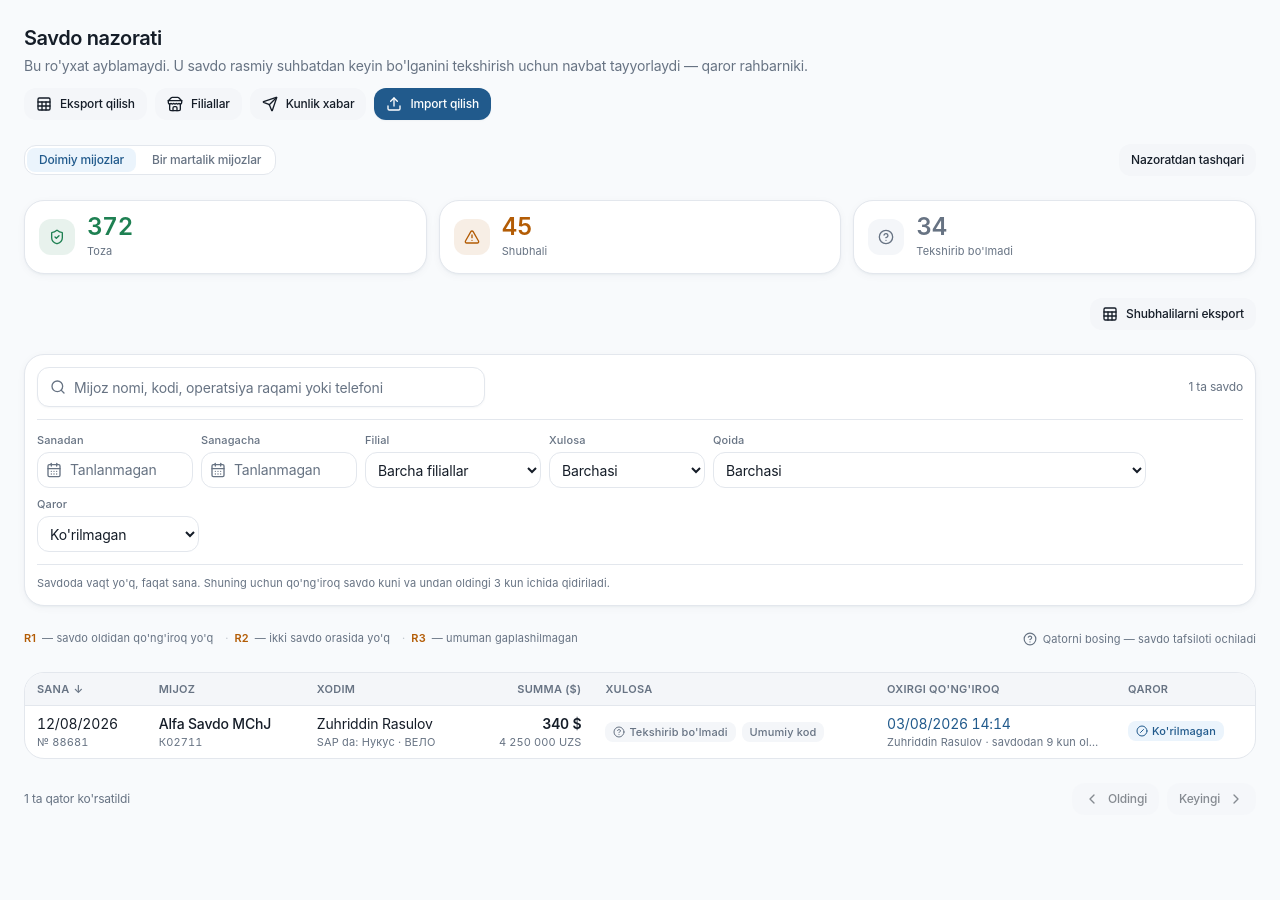
Test: the sale card › explains itself instead of drawing an empty chain for a shared code
Click the text "№ 88681": (63, 742) [37,735,88,749]
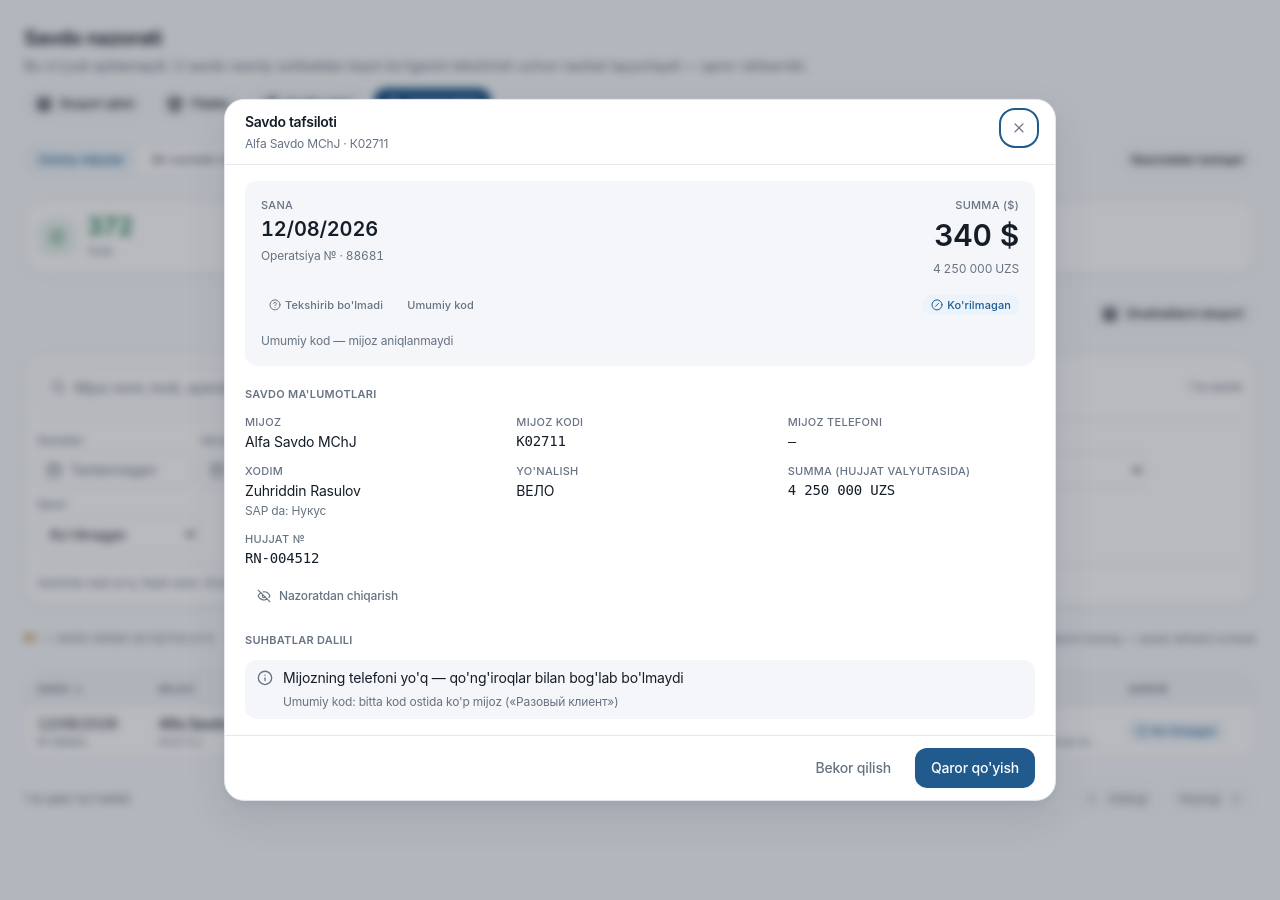
Expected: the text "Mijozning telefoni yo'q — qo'ng'iroqlar bilan bog'lab bo'lmaydi" is shown, [283,668,684,688]
Expected: the text "Umumiy kod: bitta kod ostida ko'p mijoz («Разовый клиент»)" is shown, [283,694,618,709]
